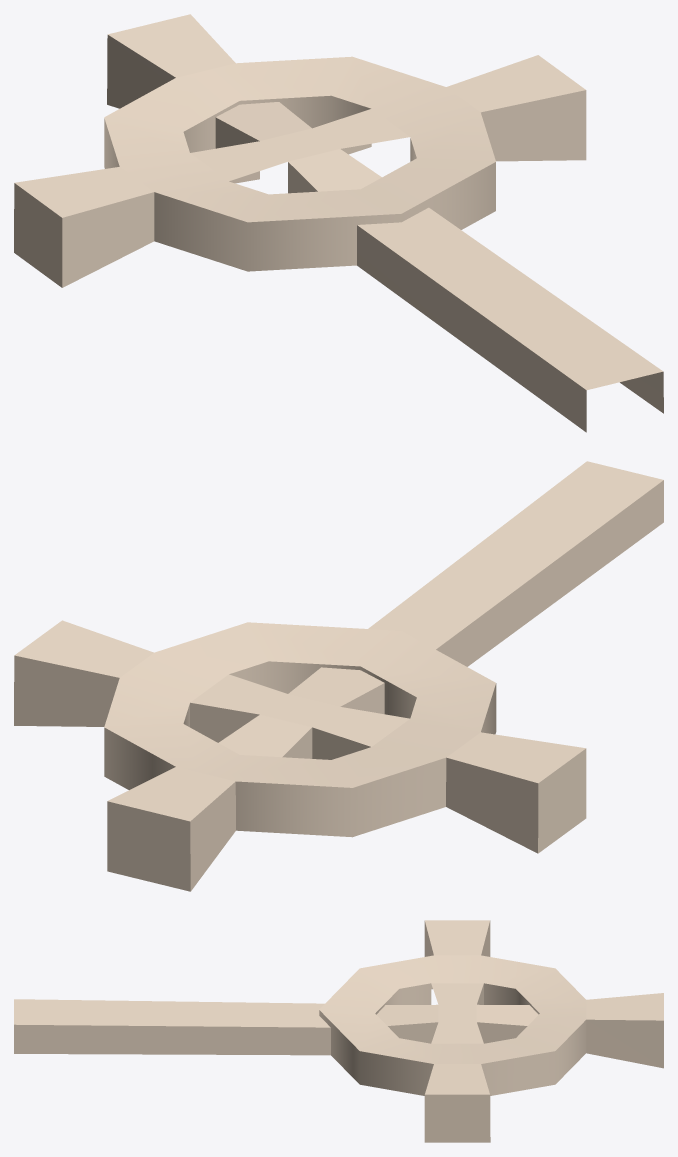
3 renders of one model, top to bottom at view 1: azimuth 30°, elevation 25°; view 2: azimuth 150°, elevation 25°; view 3: azimuth 270°, elevation 25°, orthographic. The views are drawn at different scales.
Parts seen in each view (by area): view 1: Object90; view 2: Object90; view 3: Object90.
Part boxes in pixels (bbox=[...]): Object90: bbox=[14, 14, 663, 432]; Object90: bbox=[14, 461, 663, 891]; Object90: bbox=[14, 920, 663, 1142].
Size of the model in its own units: 13561 by 1766 by 21352.
